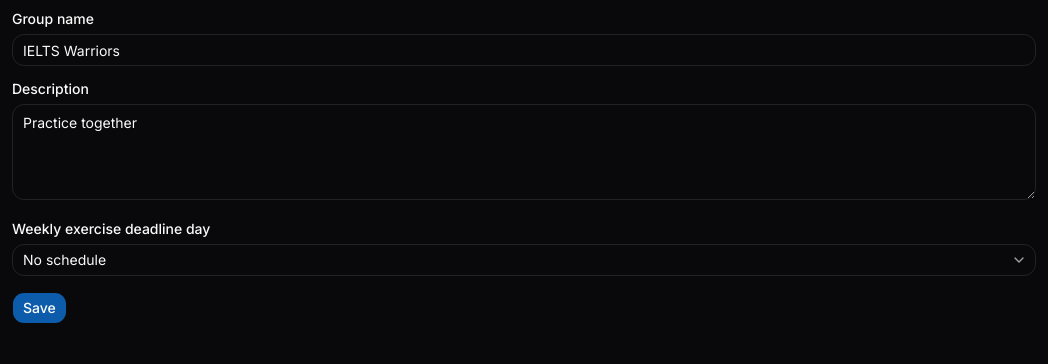
Scenario: GroupSettingsForm › shows inline error for empty name on submit
This screenshot has width=1048, height=364.
Clear the field labelled "Group name" at (524, 50), box x1=12 y1=34 x2=1036 y2=66
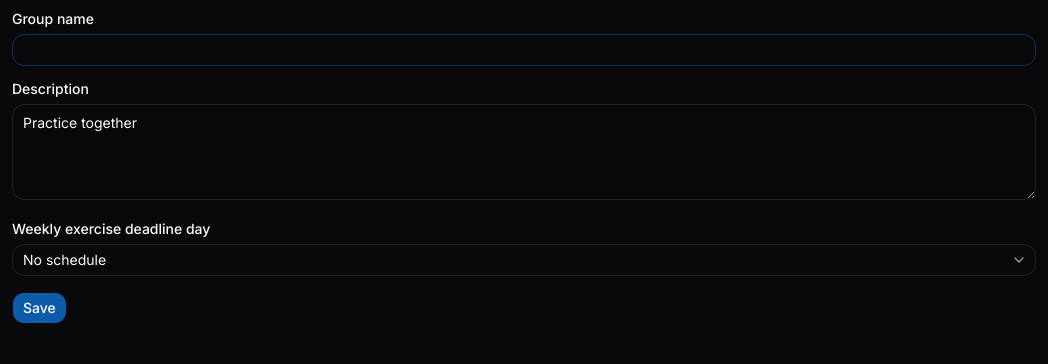
Click the button "Save" at (39, 308), box x1=12 y1=292 x2=67 y2=324
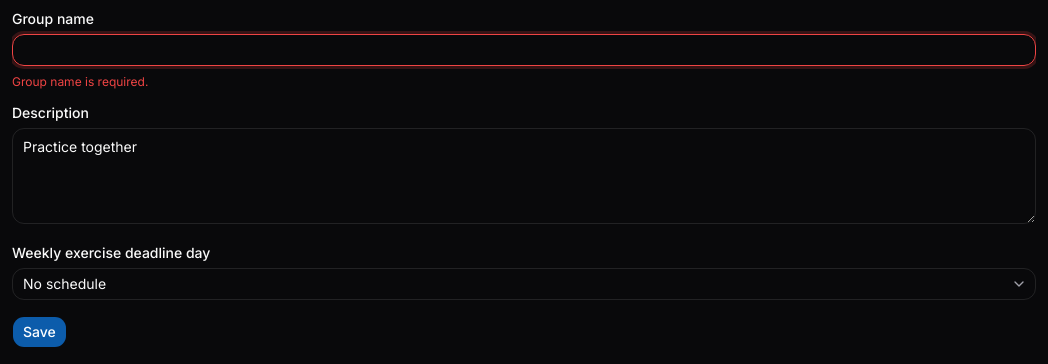
Check: the text "Group name is required." is shown, box x1=12 y1=74 x2=148 y2=89
